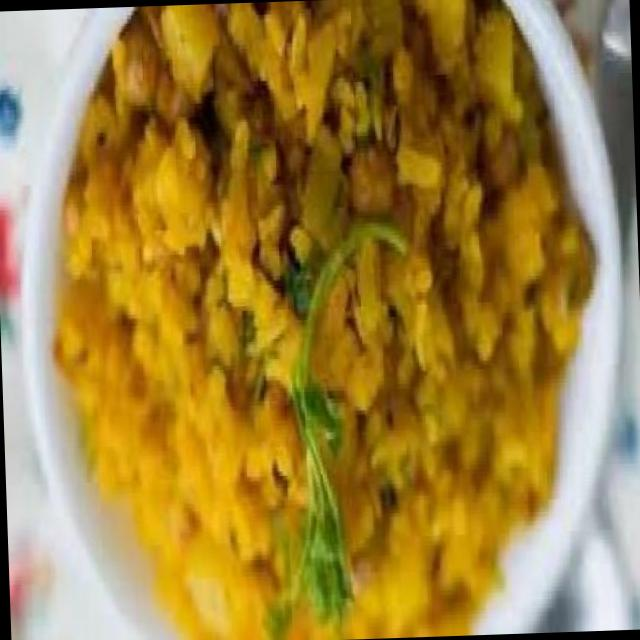poha: (41, 0, 608, 640)
